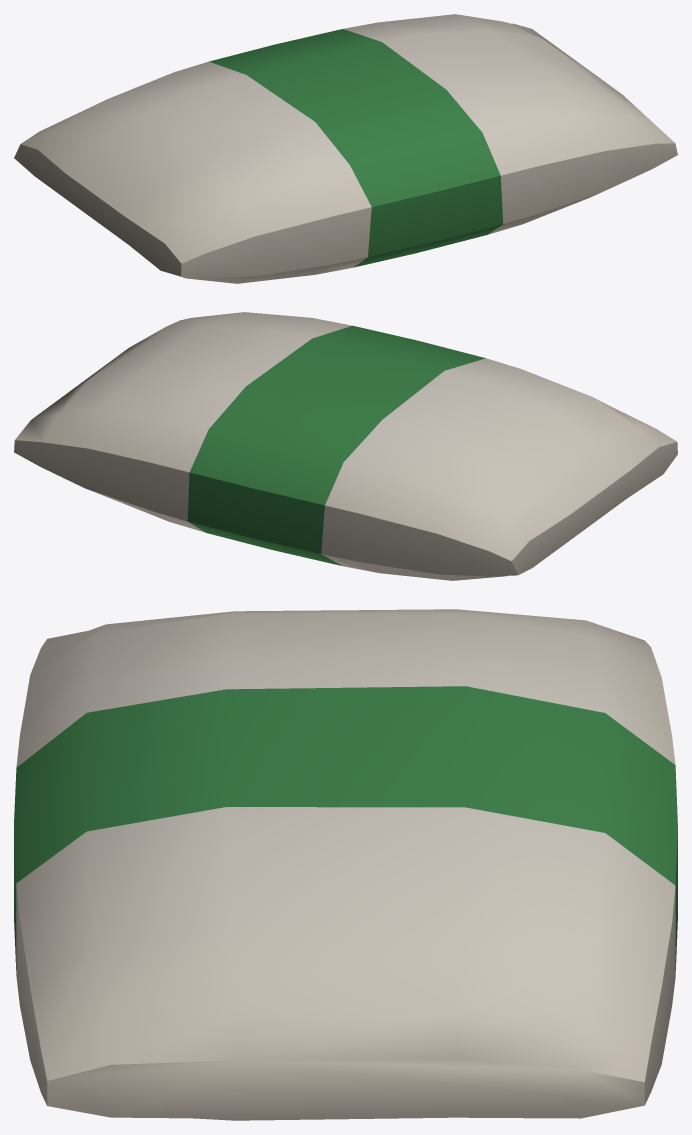
Rendered from karung_pupuk.glb.
3 views of the same model, one above another, from view 1: azimuth 30°, elevation 25°; view 2: azimuth 150°, elevation 25°; view 3: azimuth 270°, elevation 25° (orthographic). The views are drawn at different scales.
Visible parts, largest first — view 1: karung_pupuk_mesh; view 2: karung_pupuk_mesh; view 3: karung_pupuk_mesh.
Part boxes in pixels (bbox=[...]): karung_pupuk_mesh: bbox=[14, 14, 677, 283]; karung_pupuk_mesh: bbox=[14, 312, 677, 580]; karung_pupuk_mesh: bbox=[14, 609, 677, 1120].
Size of the model in its own units: 0.7501 by 0.1694 by 0.4674.
